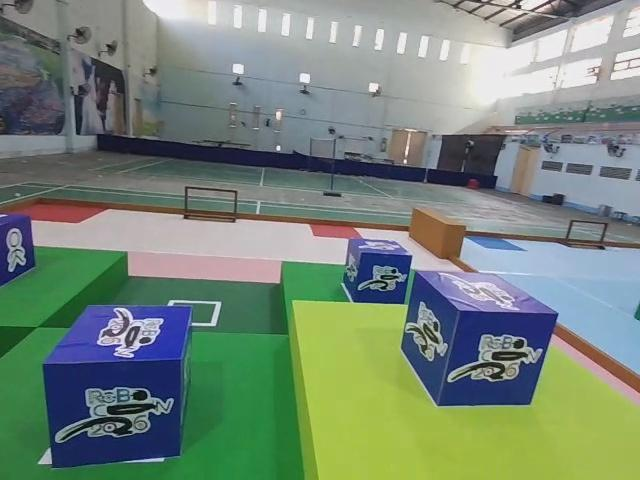R1 Blue: (42, 301, 197, 469), (403, 269, 560, 408), (341, 239, 412, 305)
R2 Real Blue: (0, 215, 35, 294)
